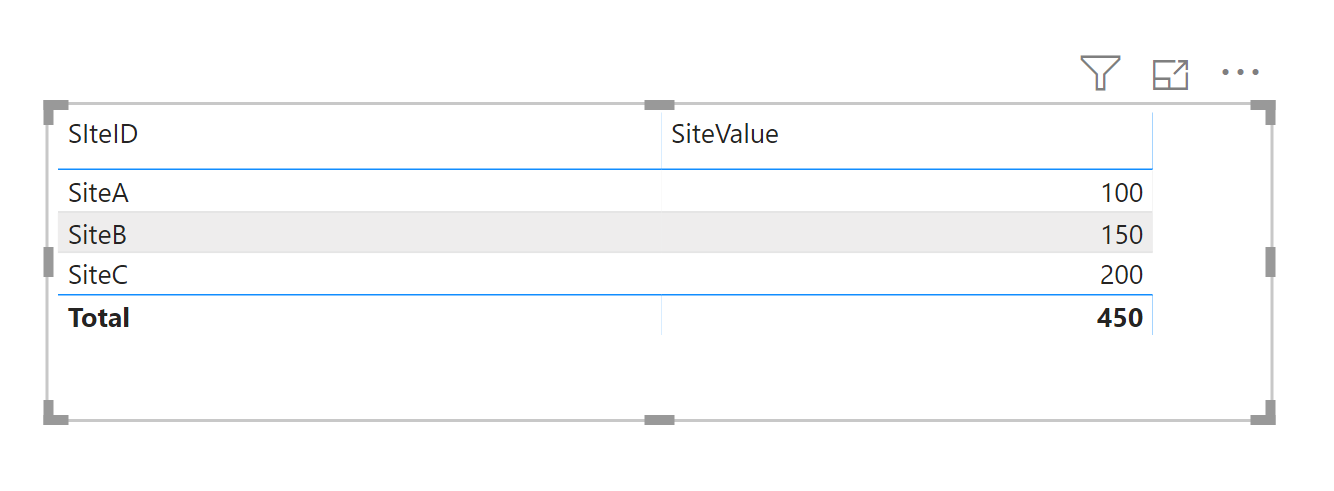

The page's visual inventory and layout, read from the dashboard file:
{"tool":"powerbi","page":{"name":"Page 1","canvas":[1280,720],"ordinal":0},"visuals":[{"type":"tableEx","fields":{"Values":["SitesAndUsrPerm.SIteID","Sum(SitesAndUsrPerm.SiteValue)"]},"box":[334.3,246.1,610.2,159.1],"z":0}]}

Visuals, with their boxes on the page's 1280x720 design canvas (x1, y1, x2, y2). These are canvas units, not pixel positions in the 1334x491 screenshot, which may show the page scaled, cropped or inside an application window:
tableEx - SitesAndUsrPerm.SIteID x Sum(SitesAndUsrPerm.SiteValue): left=334, top=246, right=944, bottom=405
